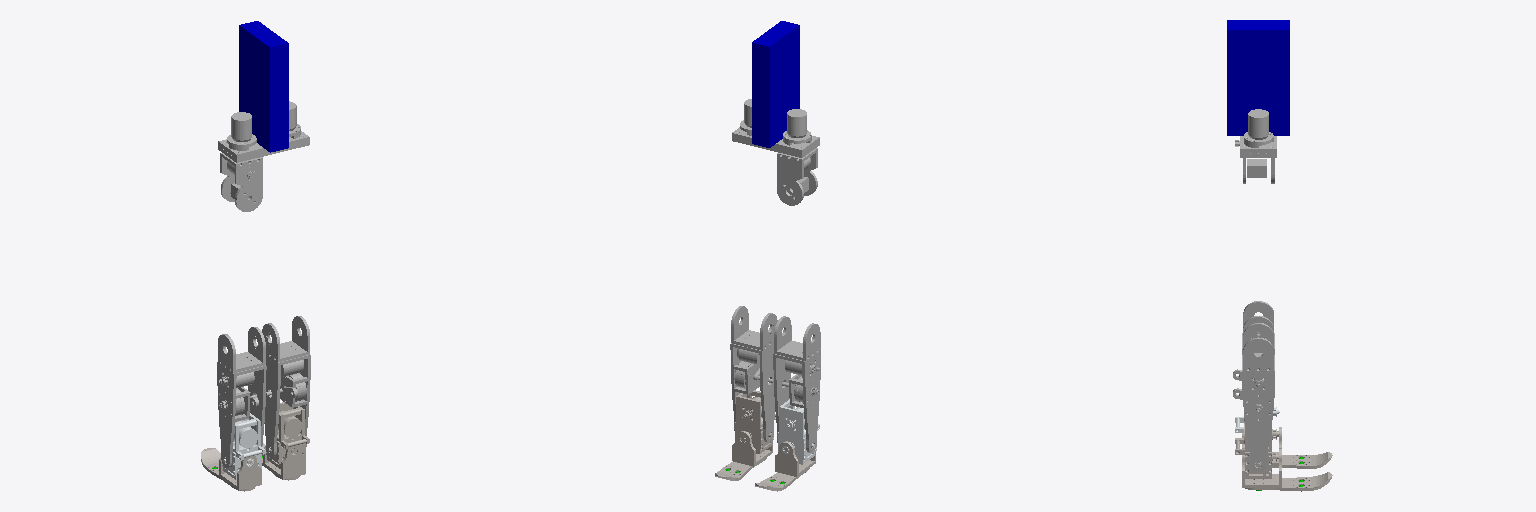
--- What the picture shows (computed from the rendered views, not written in the file) ---
The picture shows the robot from 3 angles, left to right: view 1: azimuth 30°, elevation 25°; view 2: azimuth 150°, elevation 25°; view 3: azimuth 270°, elevation 25°; orthographic projection.
Model huron with 28 links and 27 joints (12 revolute, 14 fixed, 1 floating), rooted at world, posed all joints at 0.
Visible links, largest first — view 1: l_knee_pitch_link, r_knee_pitch_link, upper_body_link, base_footprint, l_hip_yaw_link, battery_link, r_ankle_pitch_link, l_ankle_pitch_link, l_ankle_roll_link, r_ankle_roll_link; view 2: l_knee_pitch_link, r_knee_pitch_link, upper_body_link, base_footprint, l_hip_yaw_link, battery_link, r_ankle_pitch_link, l_ankle_pitch_link, l_ankle_roll_link, r_ankle_roll_link; view 3: upper_body_link, r_knee_pitch_link, battery_link, base_footprint, r_ankle_roll_link, r_ankle_pitch_link, l_knee_pitch_link, l_ankle_roll_link, l_hip_yaw_link.
Link boxes in pixels (x1,y1,x2,y2): l_knee_pitch_link: (217, 327, 266, 467); r_knee_pitch_link: (262, 316, 310, 457); upper_body_link: (239, 21, 288, 122); base_footprint: (218, 101, 309, 162); l_hip_yaw_link: (220, 153, 262, 211); battery_link: (239, 85, 288, 152); r_ankle_pitch_link: (266, 402, 309, 468); l_ankle_pitch_link: (222, 413, 265, 479); l_ankle_roll_link: (201, 448, 261, 491); r_ankle_roll_link: (262, 443, 305, 480); l_knee_pitch_link: (773, 316, 820, 452); r_knee_pitch_link: (730, 306, 777, 442); upper_body_link: (752, 21, 799, 118); base_footprint: (732, 99, 819, 157); l_hip_yaw_link: (777, 148, 817, 205); battery_link: (752, 83, 799, 147); r_ankle_pitch_link: (735, 390, 775, 453); l_ankle_pitch_link: (778, 399, 819, 464); l_ankle_roll_link: (755, 441, 815, 491); r_ankle_roll_link: (715, 431, 772, 480); upper_body_link: (1227, 20, 1289, 104); r_knee_pitch_link: (1233, 323, 1274, 471); battery_link: (1227, 90, 1289, 135); base_footprint: (1240, 109, 1276, 157); r_ankle_roll_link: (1242, 448, 1332, 490); r_ankle_pitch_link: (1235, 423, 1279, 478); l_knee_pitch_link: (1233, 301, 1274, 380); l_ankle_roll_link: (1242, 427, 1332, 468); l_hip_yaw_link: (1235, 140, 1274, 183).
Size in the robot's own frame: 0.318 by 0.3158 by 1.49 metres.
16 mesh visuals loaded from 21 distinct referenced files (16 binary STL); not drawn: 5 (reference not matched to a file when rendering).

robot.urdf — huron:
<?xml version="1.0" ?>
<!-- =================================================================================== -->
<!-- |    This document was autogenerated by xacro from urdf/huron_cheat.xacro         | -->
<!-- |    EDITING THIS FILE BY HAND IS NOT RECOMMENDED                                 | -->
<!-- =================================================================================== -->
<robot name="huron">
  <material name="black">
    <color rgba="0.0 0.0 0.0 1.0"/>
  </material>
  <material name="blue">
    <color rgba="0.0 0.0 0.8 1.0"/>
  </material>
  <material name="green">
    <color rgba="0.0 0.8 0.0 1.0"/>
  </material>
  <material name="grey">
    <color rgba="0.75294 0.75294 0.75294 1"/>
  </material>
  <material name="orange">
    <color rgba="1.0 0.4235294117647059 0.0392156862745098 1.0"/>
  </material>
  <material name="brown">
    <color rgba="0.8705882352941177 0.8117647058823529 0.7647058823529411 1.0"/>
  </material>
  <material name="red">
    <color rgba="0.8 0.0 0.0 1.0"/>
  </material>
  <material name="white">
    <color rgba="1.0 1.0 1.0 1.0"/>
  </material>
  <!-- Right leg -->
  <!-- Right foot sensors -->
  <!-- ros_control plugin -->
  <gazebo>
    <plugin filename="libgazebo_ros_control.so" name="gazebo_ros_control">
      <robotNamespace>/huron</robotNamespace>
    </plugin>
  </gazebo>
  <gazebo>
    <plugin filename="libgazebo_ros_p3d.so" name="ground_truth">
      <frameName>map</frameName>
      <bodyName>base_link</bodyName>
      <topicName>/huron/odom</topicName>
      <updateRate>100.0</updateRate>
    </plugin>
  </gazebo>
  <!-- imu sensor -->
  <gazebo reference="imu_link">
    <gravity>true</gravity>
    <sensor name="imu_sensor" type="imu">
      <always_on>true</always_on>
      <update_rate>100</update_rate>
      <visualize>true</visualize>
      <topic>/huron/sensor/imu</topic>
      <plugin filename="libgazebo_ros_imu_sensor.so" name="imu_plugin">
        <topicName>huron/sensor/imu</topicName>
        <bodyName>imu_link</bodyName>
        <updateRateHZ>10.0</updateRateHZ>
        <gaussianNoise>0.0</gaussianNoise>
        <xyzOffset>0 0 0</xyzOffset>
        <rpyOffset>0 0 0</rpyOffset>
        <frameName>imu_link</frameName>
      </plugin>
      <pose>0 0 0 0 0 0</pose>
    </sensor>
  </gazebo>
  <gazebo reference="r_ankle_roll_joint">
    <provideFeedback>true</provideFeedback>
  </gazebo>
  <gazebo>
    <plugin filename="libgazebo_ros_ft_sensor.so" name="r1_ft_sensor">
      <updateRate>100.0</updateRate>
      <topicName>/huron/sensor/r1_ft_sensor</topicName>
      <jointName>r_ankle_roll_joint</jointName>
      <gaussianNoise>0.0</gaussianNoise>
    </plugin>
  </gazebo>
  <gazebo reference="l_ankle_roll_joint">
    <provideFeedback>true</provideFeedback>
  </gazebo>
  <gazebo>
    <plugin filename="libgazebo_ros_ft_sensor.so" name="l1_ft_sensor">
      <updateRate>100.0</updateRate>
      <topicName>/huron/sensor/l1_ft_sensor</topicName>
      <jointName>l_ankle_roll_joint</jointName>
      <gaussianNoise>0.0</gaussianNoise>
    </plugin>
  </gazebo>
  <gazebo reference="l_hip_yaw_joint">
    <preserveFixedJoint>true</preserveFixedJoint>
  </gazebo>
  <gazebo reference="l_hip_roll_joint">
    <preserveFixedJoint>true</preserveFixedJoint>
  </gazebo>
  <gazebo reference="r_hip_yaw_joint">
    <preserveFixedJoint>true</preserveFixedJoint>
  </gazebo>
  <gazebo reference="r_hip_roll_joint">
    <preserveFixedJoint>true</preserveFixedJoint>
  </gazebo>
  <!-- World -->
  <gazebo reference="world"/>
  <!-- Map -->
  <gazebo reference="map"/>
  <!-- Base -->
  <gazebo reference="base_link"/>
  <!-- IMU -->
  <gazebo reference="imu_link"/>
  <!-- Body-->
  <gazebo reference="base_footprint">
    <mu1>0.2</mu1>
    <mu2>0.2</mu2>
    <material>Gazebo/Grey</material>
    <selfCollide>false</selfCollide>
  </gazebo>
  <!-- Battery -->
  <gazebo reference="battery_link">
    <material>Gazebo/SkyBlue</material>
    <selfCollide>false</selfCollide>
  </gazebo>
  <!-- Upper body visualization -->
  <gazebo reference="upper_body_link">
    <material>Gazebo/SkyBlue</material>
    <selfCollide>false</selfCollide>
  </gazebo>
  <!-- Left Leg -->
  <gazebo reference="l_hip_yaw_link">
    <mu1>0.2</mu1>
    <mu2>0.2</mu2>
    <material>Gazebo/Grey</material>
    <selfCollide>false</selfCollide>
  </gazebo>
  <gazebo reference="l_hip_roll_link">
    <mu1>0.2</mu1>
    <mu2>0.2</mu2>
    <material>Gazebo/Grey</material>
    <selfCollide>false</selfCollide>
  </gazebo>
  <gazebo reference="l_hip_pitch_link">
    <mu1>0.2</mu1>
    <mu2>0.2</mu2>
    <material>Gazebo/Grey</material>
    <selfCollide>false</selfCollide>
  </gazebo>
  <gazebo reference="l_knee_pitch_link">
    <mu1>0.2</mu1>
    <mu2>0.2</mu2>
    <material>Gazebo/Grey</material>
    <selfCollide>false</selfCollide>
  </gazebo>
  <gazebo reference="l_ankle_pitch_link">
    <mu1>0.2</mu1>
    <mu2>0.2</mu2>
    <material>Gazebo/Grey</material>
    <selfCollide>false</selfCollide>
  </gazebo>
  <gazebo reference="l_ankle_roll_link">
    <kp>1e15</kp>
    <kd>1e13</kd>
    <mu1>0.9</mu1>
    <mu2>0.9</mu2>
    <!-- <mu>0.9</mu> -->
    <!--<maxContacts>30</maxContacts>-->
    <fdir1>0 0 1</fdir1>
    <!-- <maxVel>1.0</maxVel> -->
    <!-- <minDepth>0.001</minDepth> -->
    <material>Gazebo/Blue</material>
  </gazebo>
  <!-- Right Leg -->
  <gazebo reference="r_hip_yaw_link">
    <mu1>0.2</mu1>
    <mu2>0.2</mu2>
    <material>Gazebo/Grey</material>
    <selfCollide>false</selfCollide>
  </gazebo>
  <gazebo reference="r_hip_roll_link">
    <mu1>0.2</mu1>
    <mu2>0.2</mu2>
    <material>Gazebo/Grey</material>
    <selfCollide>false</selfCollide>
  </gazebo>
  <gazebo reference="r_hip_pitch_link">
    <mu1>0.2</mu1>
    <mu2>0.2</mu2>
    <material>Gazebo/Grey</material>
    <selfCollide>false</selfCollide>
  </gazebo>
  <gazebo reference="r_knee_pitch_link">
    <mu1>0.2</mu1>
    <mu2>0.2</mu2>
    <material>Gazebo/Grey</material>
    <selfCollide>false</selfCollide>
  </gazebo>
  <gazebo reference="r_ankle_pitch_link">
    <mu1>0.2</mu1>
    <mu2>0.2</mu2>
    <material>Gazebo/Grey</material>
    <selfCollide>false</selfCollide>
  </gazebo>
  <gazebo reference="r_ankle_roll_link">
    <kp>1e15</kp>
    <kd>1e13</kd>
    <mu1>0.9</mu1>
    <mu2>0.9</mu2>
    <!-- <mu>0.9</mu> -->
    <!--<maxContacts>30</maxContacts>-->
    <fdir1>0 0 1</fdir1>
    <!--  <maxVel>1.0</maxVel>  -->
    <!-- <minDepth>0.0001</minDepth> -->
    <material>Gazebo/Blue</material>
  </gazebo>
  <!-- Used for fixing robot -->
  <!--<link name="world"></link> 
    <joint name="world_fixed" type="fixed">
        <origin xyz="0 0 0.764" rpy="0 0 0"/>
        <parent link="world"/>
        <child link="base_link"/>
    </joint> -->
  <link name="world"/>
  <!-- floating link -->
  <!-- <xacro:huron_floating parent="world" child="base"/> -->
  <joint name="world_fixed" type="floating">
    <origin rpy="0 0 0" xyz="0 0 0"/>
    <parent link="world"/>
    <child link="base"/>
  </joint>
  <link name="base"/>
  <joint name="base_fixed" type="fixed">
    <origin rpy="0 0 0" xyz="0 0 0"/>
    <parent link="base"/>
    <child link="base_footprint"/>
  </joint>
  <!-- base_link -->
  <link name="base_footprint">
    <visual>
      <origin rpy="0 0 0" xyz="0 0 0"/>
      <geometry>
        <mesh filename="resources/huron/meshes/base_link.STL" scale="1 1 1"/>
      </geometry>
      <material name="grey"/>
    </visual>
    <collision>
      <origin rpy="0 0 0" xyz="0 0 0"/>
      <geometry>
        <mesh filename="resources/huron/meshes/base_link.STL" scale="1 1 1"/>
      </geometry>
      <material name="grey"/>
    </collision>
    <inertial>
      <origin rpy="0 0 0" xyz="-1.3585E-07 5.07E-07 0.026975"/>
      <mass value="3.4072"/>
      <inertia ixx="0.00319" ixy="-1.7776E-09" ixz="-1.7316E-09" iyy="0.010531" iyz="6.4623E-09" izz="0.012315"/>
    </inertial>
  </link>
  <!-- Battery -->
  <link name="battery_link">
    <visual>
      <origin rpy="0 0 0" xyz="0 0 0"/>
      <geometry>
        <box size="0.065 0.188 0.151"/>
      </geometry>
      <material name="blue"/>
    </visual>
    <collision>
      <origin rpy="0 0 0" xyz="0 0 0"/>
      <geometry>
        <box size="0.065 0.188 0.151"/>
      </geometry>
      <material name="blue"/>
    </collision>
    <inertial>
      <origin rpy="0 0 0" xyz="0 0 0"/>
      <mass value="3.90089"/>
      <inertia ixx="0.01890143742" ixy="0" ixz="0" iyy="0.0128628597" iyz="0" izz="0.008785454428"/>
    </inertial>
  </link>
  <joint name="battery_fixed" type="fixed">
    <origin rpy="0 0 0" xyz="0 0 0.0895"/>
    <parent link="base_footprint"/>
    <child link="battery_link"/>
  </joint>
  <!-- Upper body visualization -->
  <link name="upper_body_link">
    <visual>
      <origin rpy="0 0 0" xyz="0 0 0"/>
      <geometry>
        <box size="0.065 0.188 0.25"/>
      </geometry>
      <material name="blue"/>
    </visual>
    <collision>
      <origin rpy="0 0 0" xyz="0 0 0"/>
      <geometry>
        <box size="0.065 0.188 0.25"/>
      </geometry>
      <material name="blue"/>
    </collision>
    <inertial>
      <origin rpy="0 0 0" xyz="0 0 0"/>
      <mass value="0.00001"/>
      <inertia ixx="0.000001" ixy="0" ixz="0" iyy="0.000001" iyz="0" izz="0.000001"/>
    </inertial>
  </link>
  <joint name="upper_body_fixed" type="fixed">
    <origin rpy="0 0 0" xyz="0 0 0.1505"/>
    <parent link="battery_link"/>
    <child link="upper_body_link"/>
  </joint>
  <!-- imu joint -->
  <joint name="imu_fixed" type="fixed">
    <origin rpy="0 0 0" xyz="0 0 0"/>
    <parent link="base_footprint"/>
    <child link="imu_link"/>
  </joint>
  <link name="imu_link"/>
  <!-- right hip yaw joint -->
  <joint name="r_hip_yaw_joint" type="revolute">
    <origin rpy="0 0 3.141592654" xyz="0.0775 0 -0.14512"/>
    <parent link="base_footprint"/>
    <child link="r_hip_yaw_link"/>
    <axis xyz="0 0 1"/>
    <limit effort="1000000" lower="-3.1416" upper="3.1416" velocity="3000"/>
    <dynamics damping="0.5" friction="1"/>
  </joint>
  <transmission name="r_hip_yaw_joint_tran">
    <type>transmission_interface/SimpleTransmission</type>
    <joint name="r_hip_yaw_joint">
      <hardwareInterface>hardware_interface/EffortJointInterface</hardwareInterface>
    </joint>
    <actuator name="r_hip_yaw_joint_motor">
      <hardwareInterface>EffortJointInterface</hardwareInterface>
      <mechanicalReduction>1</mechanicalReduction>
    </actuator>
  </transmission>
  <!-- right hip yaw link -->
  <link name="r_hip_yaw_link">
    <visual>
      <origin rpy="0 0 0" xyz="0 0 0"/>
      <geometry>
        <mesh filename="resources/huron/meshes/r_hip_yaw_link.STL" scale="1 1 1"/>
      </geometry>
      <material name="grey"/>
    </visual>
    <collision>
      <origin rpy="0 0 0" xyz="0 0 0"/>
      <geometry>
        <mesh filename="resources/huron/meshes/r_hip_yaw_link.STL" scale="1 1 1"/>
      </geometry>
      <material name="grey"/>
    </collision>
    <inertial>
      <origin rpy="0 0 0" xyz="0.00063365 0.00053469 0.063505"/>
      <mass value="1.6968"/>
      <inertia ixx="0.0022702" ixy="-2.4951E-10" ixz="6.6464E-06" iyy="0.0026746" iyz="5.1468E-09" izz="0.001238"/>
    </inertial>
  </link>
  <!-- right hip roll joint-->
  <joint name="r_hip_roll_joint" type="revolute">
    <origin rpy="1.570796327 0 0" xyz="0 0 0"/>
    <parent link="r_hip_yaw_link"/>
    <child link="r_hip_roll_link"/>
    <axis xyz="0 0 1"/>
    <limit effort="1000000" lower="-0.5236" upper="0.01" velocity="3000"/>
    <dynamics damping="0.5" friction="1"/>
  </joint>
  <transmission name="r_hip_roll_joint_tran">
    <type>transmission_interface/SimpleTransmission</type>
    <joint name="r_hip_roll_joint">
      <hardwareInterface>hardware_interface/EffortJointInterface</hardwareInterface>
    </joint>
    <actuator name="r_hip_roll_joint_motor">
      <hardwareInterface>EffortJointInterface</hardwareInterface>
      <mechanicalReduction>1</mechanicalReduction>
    </actuator>
  </transmission>
  <!-- right hip roll link -->
  <link name="r_hip_roll_link">
    <visual>
      <origin rpy="0 0 0" xyz="0 0 0"/>
      <geometry>
        <mesh filename="resources/huron/meshes/r_hip_roll_link.STL" scale="1 1 1"/>
      </geometry>
      <material name="grey"/>
    </visual>
    <collision>
      <origin rpy="0 0 0" xyz="0 0 0"/>
      <geometry>
        <mesh filename="resources/huron/meshes/r_hip_roll_link.STL" scale="1 1 1"/>
      </geometry>
      <material name="grey"/>
    </collision>
    <inertial>
      <origin rpy="0 0 0" xyz="-0.07196 0.0061153 -0.0005211"/>
      <mass value="1.1884"/>
      <inertia ixx="0.00098222" ixy="9.9267E-08" ixz="4.9764E-09" iyy="0.00097045" iyz="9.7285E-08" izz="0.00092365"/>
    </inertial>
  </link>
  <!-- right hip pitch joint -->
  <joint name="r_hip_pitch_joint" type="revolute">
    <origin rpy="-1.570796327 0 -1.570796327" xyz="-1.6665E-05 -0.0165 -5E-05"/>
    <parent link="r_hip_roll_link"/>
    <child link="r_hip_pitch_link"/>
    <axis xyz="0 0 1"/>
    <limit effort="1000000" lower="-1.2217" upper="1.2217" velocity="3000"/>
    <dynamics damping="0.5" friction="1"/>
  </joint>
  <transmission name="r_hip_pitch_joint_tran">
    <type>transmission_interface/SimpleTransmission</type>
    <joint name="r_hip_pitch_joint">
      <hardwareInterface>hardware_interface/EffortJointInterface</hardwareInterface>
    </joint>
    <actuator name="r_hip_pitch_joint_motor">
      <hardwareInterface>EffortJointInterface</hardwareInterface>
      <mechanicalReduction>1</mechanicalReduction>
    </actuator>
  </transmission>
  <!-- right hip pitch link -->
  <link name="r_hip_pitch_link">
    <visual>
      <origin rpy="0 0 0" xyz="0 0 0"/>
      <geometry>
        <mesh filename="resources/huron/meshes/r_hip_pitch_link.STL" scale="1 1 1"/>
      </geometry>
      <material name="grey"/>
    </visual>
    <collision>
      <origin rpy="0 0 0" xyz="0 0 0"/>
      <geometry>
        <mesh filename="resources/huron/meshes/r_hip_pitch_link.STL" scale="1 1 1"/>
      </geometry>
      <material name="grey"/>
    </collision>
    <inertial>
      <origin rpy="0 0 0" xyz="0.25103 -7.7295E-06 -0.053135"/>
      <mass value="4.2544"/>
      <inertia ixx="0.0034501" ixy="1.1102E-07" ixz="-0.0019797" iyy="0.010035" iyz="-4.8767E-10" izz="0.01009"/>
    </inertial>
  </link>
  <!-- right knee pitch joint -->
  <joint name="r_knee_pitch_joint" type="revolute">
    <origin rpy="0 0 0" xyz="0.49628 0 0"/>
    <parent link="r_hip_pitch_link"/>
    <child link="r_knee_pitch_link"/>
    <axis xyz="0 0 1"/>
    <limit effort="1000000" lower="-1.570796327" upper="1.570796327" velocity="3000"/>
    <dynamics damping="0.5" friction="1"/>
  </joint>
  <transmission name="r_knee_pitch_joint_tran">
    <type>transmission_interface/SimpleTransmission</type>
    <joint name="r_knee_pitch_joint">
      <hardwareInterface>hardware_interface/EffortJointInterface</hardwareInterface>
    </joint>
    <actuator name="r_knee_pitch_joint_motor">
      <hardwareInterface>EffortJointInterface</hardwareInterface>
      <mechanicalReduction>1</mechanicalReduction>
    </actuator>
  </transmission>
  <!-- right knee pitch link -->
  <link name="r_knee_pitch_link">
    <visual>
      <origin rpy="0 0 0" xyz="0 0 0"/>
      <geometry>
        <mesh filename="resources/huron/meshes/r_knee_pitch_link.STL" scale="1 1 1"/>
      </geometry>
      <material name="grey"/>
    </visual>
    <collision>
      <origin rpy="0 0 0" xyz="0 0 0"/>
      <geometry>
        <mesh filename="resources/huron/meshes/r_knee_pitch_link.STL" scale="1 1 1"/>
      </geometry>
      <material name="grey"/>
    </collision>
    <inertial>
      <origin rpy="0 0 0" xyz="0.13397 0.00066001 -0.0028723"/>
      <mass value="3.4875"/>
      <inertia ixx="0.0064814" ixy="1.2524E-05" ixz="2.7966E-05" iyy="0.019762" iyz="-1.0417E-05" izz="0.017354"/>
    </inertial>
  </link>
  <!-- right ankle pitch joint -->
  <joint name="r_ankle_pitch_joint" type="revolute">
    <origin rpy="0 0 0.0" xyz="0.37 0 0"/>
    <parent link="r_knee_pitch_link"/>
    <child link="r_ankle_pitch_link"/>
    <axis xyz="0 0 1"/>
    <limit effort="1000000" lower="-0.5236" upper="0.1745" velocity="3000"/>
    <dynamics damping="0.5" friction="1"/>
  </joint>
  <transmission name="r_ankle_pitch_joint_tran">
    <type>transmission_interface/SimpleTransmission</type>
    <joint name="r_ankle_pitch_joint">
      <hardwareInterface>hardware_interface/EffortJointInterface</hardwareInterface>
    </joint>
    <actuator name="r_ankle_pitch_joint_motor">
      <hardwareInterface>EffortJointInterface</hardwareInterface>
      <mechanicalReduction>1</mechanicalReduction>
    </actuator>
  </transmission>
  <!-- right ankle pitch link -->
  <link name="r_ankle_pitch_link">
    <visual>
      <origin rpy="0 0 0" xyz="0 0 0"/>
      <geometry>
        <mesh filename="resources/huron/meshes/r_ankle_pitch_link.STL" scale="1 1 1"/>
      </geometry>
      <material name="">
        <color rgba="0.77647 0.75686 0.73725 1"/>
      </material>
    </visual>
    <collision>
      <origin rpy="0 0 0" xyz="0 0 0"/>
      <geometry>
        <mesh filename="resources/huron/meshes/r_ankle_pitch_link.STL" scale="1 1 1"/>
      </geometry>
      <material name="">
        <color rgba="0.77647 0.75686 0.73725 1"/>
      </material>
    </collision>
    <inertial>
      <origin rpy="0 0 0" xyz="-0.029808 0.001045 3.1134E-08"/>
      <mass value="2.4242"/>
      <inertia ixx="0.0025143" ixy="-0.00025651" ixz="1.1633E-12" iyy="0.0045125" iyz="6.7197E-10" izz="0.0049235"/>
    </inertial>
  </link>
  <!-- right ankle roll joint -->
  <joint name="r_ankle_roll_joint" type="revolute">
    <origin rpy="1.570796327 0 0" xyz="0 0 0"/>
    <parent link="r_ankle_pitch_link"/>
    <child link="r_ankle_roll_link"/>
    <axis xyz="0 0 1"/>
    <limit effort="1000000" lower="-0.3491" upper="0.3491" velocity="3000"/>
    <dynamics damping="0.5" friction="10"/>
  </joint>
  <transmission name="r_ankle_roll_joint_tran">
    <type>transmission_interface/SimpleTransmission</type>
    <joint name="r_ankle_roll_joint">
      <hardwareInterface>hardware_interface/EffortJointInterface</hardwareInterface>
    </joint>
    <actuator name="r_ankle_roll_joint_motor">
      <hardwareInterface>EffortJointInterface</hardwareInterface>
      <mechanicalReduction>1</mechanicalReduction>
    </actuator>
  </transmission>
  <!-- right ankle roll link -->
  <link name="r_ankle_roll_link">
    <visual>
      <origin rpy="0 0 0" xyz="0 0 0"/>
      <geometry>
        <mesh filename="resources/huron/meshes/r_ankle_roll_link.STL" scale="1 1 1"/>
      </geometry>
      <material name="">
        <color rgba="0.77647 0.75686 0.73725 1"/>
      </material>
    </visual>
    <collision>
      <origin rpy="0 0 0" xyz="0 0 0"/>
      <geometry>
        <mesh filename="resources/huron/meshes/r_ankle_roll_link.STL" scale="1 1 1"/>
      </geometry>
      <material name="">
        <color rgba="0.77647 0.75686 0.73725 1"/>
      </material>
    </collision>
    <inertial>
      <origin rpy="0 0 0" xyz="0.07353 -6.708E-05 0.063947"/>
      <mass value="1.8633"/>
      <inertia ixx="0.0086824" ixy="9.8353E-06" ixz="0.00024334" iyy="0.0084059" iyz="-0.00012379" izz="0.0013021"/>
    </inertial>
  </link>
  <!-- right ft fixed joint 1 -->
  <joint name="r1_ft_fixed" type="fixed">
    <origin rpy="0 0 1.570796327" xyz="0.0982708740959065 0.0143480673989493 0.127875866180863"/>
    <axis xyz="0 0 1"/>
    <parent link="r_ankle_roll_link"/>
    <child link="r1_foot_ft_link"/>
    <limit effort="100" lower="0" upper="0" velocity="100"/>
  </joint>
  <!-- right foot ft link 1 -->
  <link name="r1_foot_ft_link">
    <visual>
      <origin rpy=" 0 0 0" xyz="0 0 0"/>
      <geometry>
        <mesh filename="resources/huron/meshes/r1_foot_ft_link.STL" scale="1 1 1"/>
      </geometry>
      <material name="green"/>
    </visual>
    <!-- <collision>
                <xacro:insert_mesh_r1_foot_ft_link />
            </collision>	    
	    <inertial>
		<xacro:insert_inertia_r1_foot_ft_link />
	    </inertial> -->
  </link>
  <!-- right ft fixed joint 2 -->
  <joint name="r2_ft_fixed" type="fixed">
    <origin rpy="0 0 1.570796327" xyz="0.0983344633797905 -0.0206518748353312 0.127875866180863"/>
    <axis xyz="0 0 1"/>
    <parent link="r_ankle_roll_link"/>
    <child link="r2_foot_ft_link"/>
    <limit effort="100" lower="0" upper="0" velocity="100"/>
  </joint>
  <!-- right foot ft link 2 -->
  <link name="r2_foot_ft_link">
    <visual>
      <origin rpy=" 0 0 0" xyz="0 0 0"/>
      <geometry>
        <mesh filename="resources/huron/meshes/r2_foot_ft_link.STL" scale="1 1 1"/>
      </geometry>
      <material name="green"/>
    </visual>
    <!-- <collision>
                <xacro:insert_mesh_r2_foot_ft_link />
            </collision>	    
	    <inertial>
		<xacro:insert_inertia_r2_foot_ft_link />
	    </inertial> -->
  </link>
  <!-- right ft fixed joint 3 -->
  <joint name="r3_ft_fixed" type="fixed">
    <origin rpy="0 0 1.570796327" xyz="0.0983275192522874 -0.0168297833346846 0"/>
    <axis xyz="0 0 1"/>
    <parent link="r_ankle_roll_link"/>
    <child link="r3_foot_ft_link"/>
    <limit effort="100" lower="0" upper="0" velocity="100"/>
  </joint>
  <!-- right foot ft link 3 -->
  <link name="r3_foot_ft_link">
    <visual>
      <origin rpy=" 0 0 0" xyz="0 0 0"/>
      <geometry>
        <mesh filename="resources/huron/meshes/r3_foot_ft_link.STL" scale="1 1 1"/>
      </geometry>
      <material name="green"/>
    </visual>
    <!-- <collision>
                <xacro:insert_mesh_r3_foot_ft_link />
            </collision>	    
	    <inertial>
		<xacro:insert_inertia_r3_foot_ft_link />
	    </inertial> -->
  </link>
  <!-- right ft fixed joint 4 -->
  <joint name="r4_ft_fixed" type="fixed">
    <origin rpy="0 0 1.570796327" xyz="0.0982666399609057 0.0166785619632585 0"/>
    <axis xyz="0 0 1"/>
    <parent link="r_ankle_roll_link"/>
    <child link="r4_foot_ft_link"/>
    <limit effort="100" lower="0" upper="0" velocity="100"/>
  </joint>
  <!-- right4 foot ft link 4 -->
  <link name="r4_foot_ft_link">
    <visual>
      <origin rpy=" 0 0 0" xyz="0 0 0"/>
      <geometry>
        <mesh filename="resources/huron/meshes/r4_foot_ft_link.STL" scale="1 1 1"/>
      </geometry>
      <material name="green"/>
    </visual>
    <!-- <collision>
                <xacro:insert_mesh_r4_foot_ft_link />
            </collision>	    
	    <inertial>
		<xacro:insert_inertia_r4_foot_ft_link />
	    </inertial> -->
  </link>
  <!-- right ft fixed joint -->
  <joint name="rv_ft_fixed" type="fixed">
    <origin rpy="0 0 0" xyz="-0.0165 0 0.055"/>
    <axis xyz="0 0 0"/>
    <parent link="r4_foot_ft_link"/>
    <child link="r_foot_v_ft_link"/>
    <limit effort="100" lower="0" upper="0" velocity="100"/>
  </joint>
  <!-- right foot ft link -->
  <link name="r_foot_v_ft_link"/>
  <!-- left hip yaw joint -->
  <joint name="l_hip_yaw_joint" type="revolute">
    <origin rpy="0 0 0" xyz="-0.0775 0 -0.1451242"/>
    <parent link="base_footprint"/>
    <child link="l_hip_yaw_link"/>
    <axis xyz="0 0 1"/>
    <limit effort="1000000" lower="-3.1416" upper="3.1416" velocity="3000"/>
    <dynamics damping="0.5" friction="1"/>
  </joint>
  <transmission name="l_hip_yaw_joint_tran">
    <type>transmission_interface/SimpleTransmission</type>
    <joint name="l_hip_yaw_joint">
      <hardwareInterface>hardware_interface/EffortJointInterface</hardwareInterface>
    </joint>
    <actuator name="l_hip_yaw_joint_motor">
      <hardwareInterface>EffortJointInterface</hardwareInterface>
      <mechanicalReduction>1</mechanicalReduction>
    </actuator>
  </transmission>
  <!-- left hip yaw link -->
  <link name="l_hip_yaw_link">
    <visual>
      <origin rpy="0 0 0" xyz="0 0 0"/>
      <geometry>
        <mesh filename="resources/huron/meshes/l_hip_yaw_link.STL" scale="1 1 1"/>
      </geometry>
      <material name="grey"/>
    </visual>
    <collision>
      <origin rpy="0 0 0" xyz="0 0 0"/>
      <geometry>
        <mesh filename="resources/huron/meshes/l_hip_yaw_link.STL" scale="1 1 1"/>
      </geometry>
      <material name="grey"/>
    </collision>
    <inertial>
      <origin rpy="0 0 0" xyz="0.00063365 -0.00053469 0.063496"/>
      <mass value="1.6968"/>
      <inertia ixx="0.0022702" ixy="-2.4951E-10" ixz="6.6464E-06" iyy="0.0026746" iyz="-5.1468E-09" izz="0.001238"/>
    </inertial>
  </link>
  <!-- left hip roll joint-->
  <joint name="l_hip_roll_joint" type="revolute">
    <origin rpy="1.570796327 0 3.141592654" xyz="0 0 0"/>
    <parent link="l_hip_yaw_link"/>
    <child link="l_hip_roll_link"/>
    <axis xyz="0 0 1"/>
    <limit effort="1000000" lower="-0.01" upper="0.5236" velocity="3000"/>
    <dynamics damping="0.5" friction="1"/>
  </joint>
  <transmission name="l_hip_roll_joint_tran">
    <type>transmission_interface/SimpleTransmission</type>
    <joint name="l_hip_roll_joint">
      <hardwareInterface>hardware_interface/EffortJointInterface</hardwareInterface>
    </joint>
    <actuator name="l_hip_roll_joint_motor">
      <hardwareInterface>EffortJointInterface</hardwareInterface>
      <mechanicalReduction>1</mechanicalReduction>
    </actuator>
  </transmission>
  <!-- left hip roll link -->
  <link name="l_hip_roll_link">
    <visual>
      <origin rpy="0 0 0" xyz="0 0 0"/>
      <geometry>
        <mesh filename="resources/huron/meshes/l_hip_roll_link.STL" scale="1 1 1"/>
      </geometry>
      <material name="grey"/>
    </visual>
    <collision>
      <origin rpy="0 0 0" xyz="0 0 0"/>
      <geometry>
        <mesh filename="resources/huron/meshes/l_hip_roll_link.STL" scale="1 1 1"/>
      </geometry>
      <material name="grey"/>
    </collision>
    <inertial>
      <origin rpy="0 0 0" xyz="0.07196 0.0061153 -0.0005211"/>
      <mass value="1.1884"/>
      <inertia ixx="0.00098222" ixy="-9.9267E-08" ixz="4.9764E-09" iyy="0.00097045" iyz="-9.7285E-08" izz="0.00092365"/>
    </inertial>
  </link>
  <!-- left hip pitch joint -->
  <joint name="l_hip_pitch_joint" type="revolute">
    <origin rpy="-1.570796327 0 -1.570796327" xyz="1.6665E-05 -0.0165 -5E-05"/>
    <parent link="l_hip_roll_link"/>
    <child link="l_hip_pitch_link"/>
    <axis xyz="0 0 1"/>
    <limit effort="1000000" lower="-1.2217" upper="1.2217" velocity="3000"/>
    <dynamics damping="0.5" friction="1"/>
  </joint>
  <transmission name="l_hip_pitch_joint_tran">
    <type>transmission_interface/SimpleTransmission</type>
    <joint name="l_hip_pitch_joint">
      <hardwareInterface>hardware_interface/EffortJointInterface</hardwareInterface>
    </joint>
    <actuator name="l_hip_pitch_joint_motor">
      <hardwareInterface>EffortJointInterface</hardwareInterface>
      <mechanicalReduction>1</mechanicalReduction>
    </actuator>
  </transmission>
  <!-- left hip pitch link -->
  <link name="l_hip_pitch_link">
    <visual>
      <origin rpy="0 0 0" xyz="0 0 0"/>
      <geometry>
        <mesh filename="resources/huron/meshes/l_hip_pitch_link.STL" scale="1 1 1"/>
      </geometry>
      <material name="grey"/>
    </visual>
    <collision>
      <origin rpy="0 0 0" xyz="0 0 0"/>
      <geometry>
        <mesh filename="resources/huron/meshes/l_hip_pitch_link.STL" scale="1 1 1"/>
      </geometry>
      <material name="grey"/>
    </collision>
    <inertial>
      <origin rpy="0 0 0" xyz="0.25103 -7.7295E-06 0.053135"/>
      <mass value="4.2544"/>
      <inertia ixx="0.0034501" ixy="-1.1102E-07" ixz="0.0019797" iyy="0.010035" iyz="-4.8767E-10" izz="0.01009"/>
    </inertial>
  </link>
  <!-- left knee pitch joint -->
  <joint name="l_knee_pitch_joint" type="revolute">
    <origin rpy="0 0 0" xyz="0.49628 0 0"/>
    <parent link="l_hip_pitch_link"/>
    <child link="l_knee_pitch_link"/>
    <axis xyz="0 0 1"/>
    <limit effort="1000000" lower="-1.570796327" upper="1.570796327" velocity="3000"/>
    <dynamics damping="0.5" friction="1"/>
  </joint>
  <transmission name="l_knee_pitch_joint_tran">
    <type>transmission_interface/SimpleTransmission</type>
    <joint name="l_knee_pitch_joint">
      <hardwareInterface>hardware_interface/EffortJointInterface</hardwareInterface>
    </joint>
    <actuator name="l_knee_pitch_joint_motor">
      <hardwareInterface>EffortJointInterface</hardwareInterface>
      <mechanicalReduction>1</mechanicalReduction>
    </actuator>
  </transmission>
  <!-- left knee pitch link -->
  <link name="l_knee_pitch_link">
    <visual>
      <origin rpy="0 0 0" xyz="0 0 0"/>
      <geometry>
        <mesh filename="resources/huron/meshes/l_knee_pitch_link.STL" scale="1 1 1"/>
      </geometry>
      <material name="grey"/>
    </visual>
    <collision>
      <origin rpy="0 0 0" xyz="0 0 0"/>
      <geometry>
        <mesh filename="resources/huron/meshes/l_knee_pitch_link.STL" scale="1 1 1"/>
      </geometry>
      <material name="grey"/>
    </collision>
    <inertial>
      <origin rpy="0 0 0" xyz="0.13397 0.00066001 0.0028723"/>
      <mass value="3.4875"/>
      <inertia ixx="0.0064814" ixy="1.2524E-05" ixz="-2.7966E-05" iyy="0.019762" iyz="1.0417E-05" izz="0.017354"/>
    </inertial>
  </link>
  <!-- left ankle pitch joint -->
  <joint name="l_ankle_pitch_joint" type="revolute">
    <origin rpy="0 0 0.0" xyz="0.37 0 0"/>
    <parent link="l_knee_pitch_link"/>
    <child link="l_ankle_pitch_link"/>
    <axis xyz="0 0 1"/>
    <limit effort="1000000" lower="-0.5236" upper="0.1745" velocity="3000"/>
    <dynamics damping="0.5" friction="1"/>
  </joint>
  <transmission name="l_ankle_pitch_joint_tran">
    <type>transmission_interface/SimpleTransmission</type>
    <joint name="l_ankle_pitch_joint">
      <hardwareInterface>hardware_interface/EffortJointInterface</hardwareInterface>
    </joint>
    <actuator name="l_ankle_pitch_joint_motor">
      <hardwareInterface>EffortJointInterface</hardwareInterface>
      <mechanicalReduction>1</mechanicalReduction>
    </actuator>
  </transmission>
  <!-- left ankle pitch link -->
  <link name="l_ankle_pitch_link">
    <visual>
      <origin rpy="0 0 0" xyz="0 0 0"/>
      <geometry>
        <mesh filename="resources/huron/meshes/l_ankle_pitch_link.STL" scale="1 1 1"/>
      </geometry>
      <material name="">
        <color rgba="0.89804 0.91765 0.92941 1"/>
      </material>
    </visual>
    <collision>
      <origin rpy="0 0 0" xyz="0 0 0"/>
      <geometry>
        <mesh filename="resources/huron/meshes/l_ankle_pitch_link.STL" scale="1 1 1"/>
      </geometry>
      <material name="">
        <color rgba="0.89804 0.91765 0.92941 1"/>
      </material>
    </collision>
    <inertial>
      <origin rpy="0 0 0" xyz="-0.029808 0.001045 3.1134E-08"/>
      <mass value="2.4242"/>
      <inertia ixx="0.0025143" ixy="-0.00025651" ixz="1.1633E-12" iyy="0.0045125" iyz="6.7197E-10" izz="0.0049235"/>
    </inertial>
  </link>
  <!-- left ankle roll pitch -->
  <joint name="l_ankle_roll_joint" type="revolute">
    <origin rpy="1.570796327 0 0" xyz="0 0 0"/>
    <parent link="l_ankle_pitch_link"/>
    <child link="l_ankle_roll_link"/>
    <axis xyz="0 0 1"/>
    <limit effort="1000000" lower="-0.3491" upper="0.3491" velocity="3000"/>
    <dynamics damping="0.5" friction="10"/>
  </joint>
  <transmission name="l_ankle_roll_joint_tran">
    <type>transmission_interface/SimpleTransmission</type>
    <joint name="l_ankle_roll_joint">
      <hardwareInterface>hardware_interface/EffortJointInterface</hardwareInterface>
    </joint>
    <actuator name="l_ankle_roll_joint_motor">
      <hardwareInterface>EffortJointInterface</hardwareInterface>
      <mechanicalReduction>1</mechanicalReduction>
    </actuator>
  </transmission>
  <!-- left ankle roll link -->
  <link name="l_ankle_roll_link">
    <visual>
      <origin rpy="0 0 0" xyz="0 0 0"/>
      <geometry>
        <mesh filename="resources/huron/meshes/l_ankle_roll_link.STL" scale="1 1 1"/>
      </geometry>
      <material name="">
        <color rgba="0.77647 0.75686 0.73725 1"/>
      </material>
    </visual>
    <collision>
      <origin rpy="0 0 0" xyz="0 0 0"/>
      <geometry>
        <mesh filename="resources/huron/meshes/l_ankle_roll_link.STL" scale="1 1 1"/>
      </geometry>
      <material name="">
        <color rgba="0.77647 0.75686 0.73725 1"/>
      </material>
    </collision>
    <inertial>
      <origin rpy="0 0 0" xyz="0.07353 6.708E-05 0.063947"/>
      <mass value="1.8633"/>
      <inertia ixx="0.0086824" ixy="-9.8353E-06" ixz="0.00024334" iyy="0.0084059" iyz="0.00012379" izz="0.0013021"/>
    </inertial>
  </link>
  <!-- left ft fixed joint 1 -->
  <joint name="l1_ft_fixed" type="fixed">
    <origin rpy="0 0 1.570796327" xyz="0.0983282135717449 0.0206816111121677 0.127875866180865"/>
    <axis xyz="0 0 1"/>
    <parent link="l_ankle_roll_link"/>
    <child link="l1_foot_ft_link"/>
    <limit effort="100" lower="0" upper="0" velocity="100"/>
  </joint>
  <!-- left foot ft link 1 -->
  <link name="l1_foot_ft_link">
    <visual>
      <origin rpy=" 0 0 0" xyz="0 0 0"/>
      <geometry>
        <mesh filename="resources/huron/meshes/l1_foot_ft_link.STL" scale="1 1 1"/>
      </geometry>
      <material name="green"/>
    </visual>
    <!-- <collision>
                <xacro:insert_mesh_l1_foot_ft_link />
            </collision>	    
	    <inertial>
		<xacro:insert_inertia_l1_foot_ft_link />
	    </inertial> -->
  </link>
  <!-- left ft fixed joint 2 -->
  <joint name="l2_ft_fixed" type="fixed">
    <origin rpy="0 0 1.570796327" xyz="0.0982752085863122 -0.0143183487516882 0.127875866180865"/>
    <axis xyz="0 0 1"/>
    <parent link="l_ankle_roll_link"/>
    <child link="l2_foot_ft_link"/>
    <limit effort="100" lower="0" upper="0" velocity="100"/>
  </joint>
  <!-- left foot ft link 2 -->
  <link name="l2_foot_ft_link">
    <visual>
      <origin rpy=" 0 0 0" xyz="0 0 0"/>
      <geometry>
        <mesh filename="resources/huron/meshes/l2_foot_ft_link.STL" scale="1 1 1"/>
      </geometry>
      <material name="green"/>
    </visual>
    <!-- <collision>
                <xacro:insert_mesh_l2_foot_ft_link />
            </collision>	    
	    <inertial>
		<xacro:insert_inertia_l2_foot_ft_link />
	    </inertial> -->
  </link>
  <!-- left ft fixed joint 3 -->
  <joint name="l3_ft_fixed" type="fixed">
    <origin rpy="0 0 1.570796327" xyz="0.0982716792139032 -0.0166488444898757 0"/>
    <axis xyz="0 0 1"/>
    <parent link="l_ankle_roll_link"/>
    <child link="l3_foot_ft_link"/>
    <limit effort="100" lower="0" upper="0" velocity="100"/>
  </joint>
  <!-- left foot ft link 3 -->
  <link name="l3_foot_ft_link">
    <visual>
      <origin rpy=" 0 0 0" xyz="0 0 0"/>
      <geometry>
        <mesh filename="resources/huron/meshes/l3_foot_ft_link.STL" scale="1 1 1"/>
      </geometry>
      <material name="green"/>
    </visual>
    <!-- <collision>
                <xacro:insert_mesh_l3_foot_ft_link />
            </collision>	    
	    <inertial>
		<xacro:insert_inertia_l3_foot_ft_link />
	    </inertial> -->
  </link>
  <!-- left ft fixed joint 4 -->
  <joint name="l4_ft_fixed" type="fixed">
    <origin rpy="0 0 1.570796327" xyz="0.0983224252792114 0.0168595176863209 0"/>
    <axis xyz="0 0 1"/>
    <parent link="l_ankle_roll_link"/>
    <child link="l4_foot_ft_link"/>
    <limit effort="100" lower="0" upper="0" velocity="100"/>
  </joint>
  <!-- left foot ft link 4 -->
  <link name="l4_foot_ft_link">
    <visual>
      <origin rpy=" 0 0 0" xyz="0 0 0"/>
      <geometry>
        <mesh filename="resources/huron/meshes/l4_foot_ft_link.STL" scale="1 1 1"/>
      </geometry>
      <material name="green"/>
    </visual>
    <!-- <collision>
                <xacro:insert_mesh_l4_foot_ft_link />
            </collision>	    
	    <inertial>
		<xacro:insert_inertia_l4_foot_ft_link />
	    </inertial> -->
  </link>
  <!-- left ft fixed joint -->
  <joint name="lv_ft_fixed" type="fixed">
    <origin rpy="0 0 0" xyz="-0.0165 0 0.055"/>
    <parent link="l4_foot_ft_link"/>
    <child link="l_foot_v_ft_link"/>
  </joint>
  <!-- left foot ft link -->
  <link name="l_foot_v_ft_link"/>
</robot>
